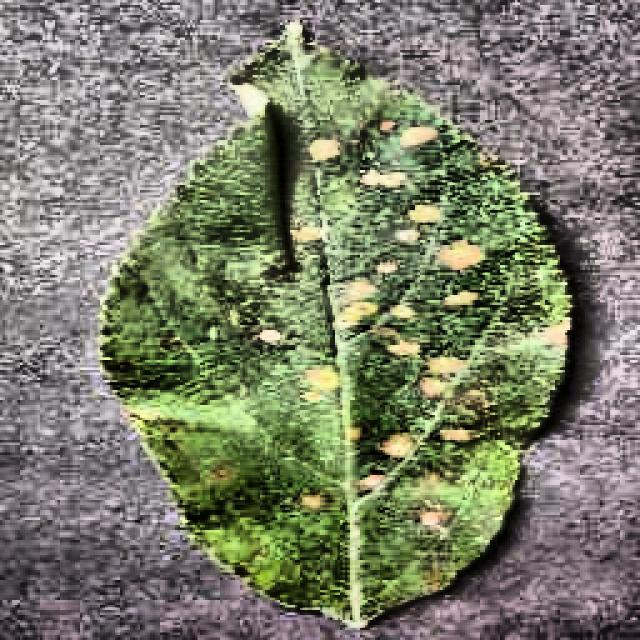healthy: (105, 22, 572, 625)
